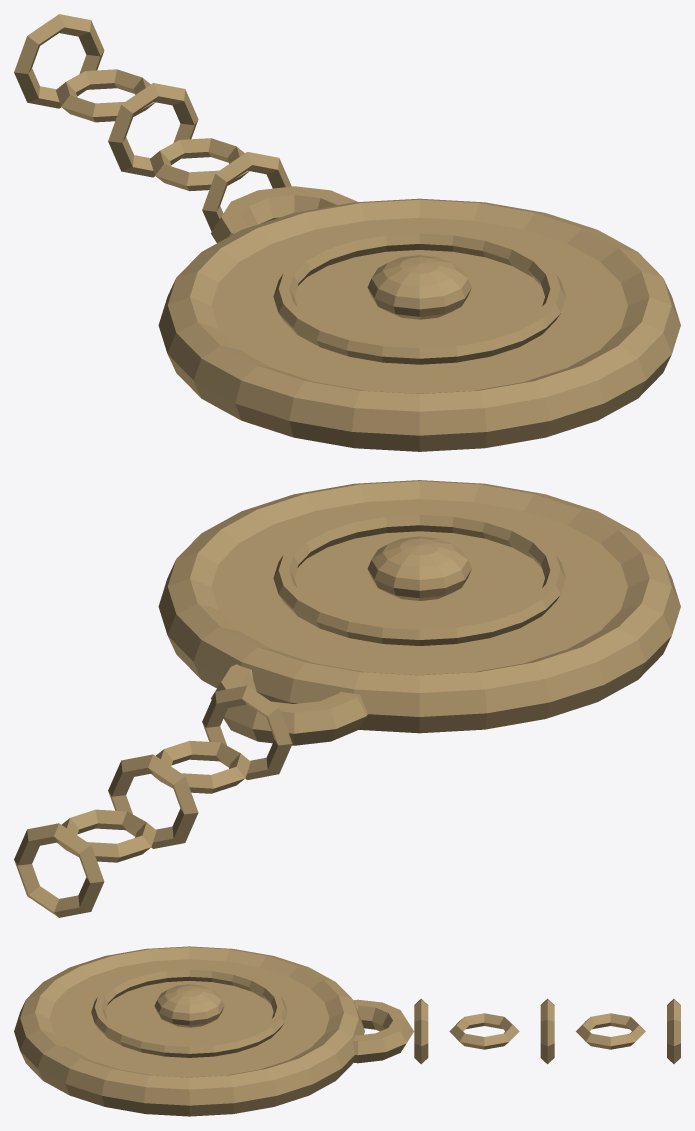
Rendered from amulet.glb.
3 renders of one model, top to bottom at view 1: azimuth 30°, elevation 25°; view 2: azimuth 150°, elevation 25°; view 3: azimuth 270°, elevation 25°, orthographic. The views are drawn at different scales.
Parts seen in each view (by area): view 1: amulet; view 2: amulet; view 3: amulet.
Part boxes in pixels (<box>): amulet: <box>14,14,680,451</box>; amulet: <box>14,480,680,917</box>; amulet: <box>14,946,680,1116</box>.
Size of the model in its own units: 0.05 by 0.0115 by 0.095.
